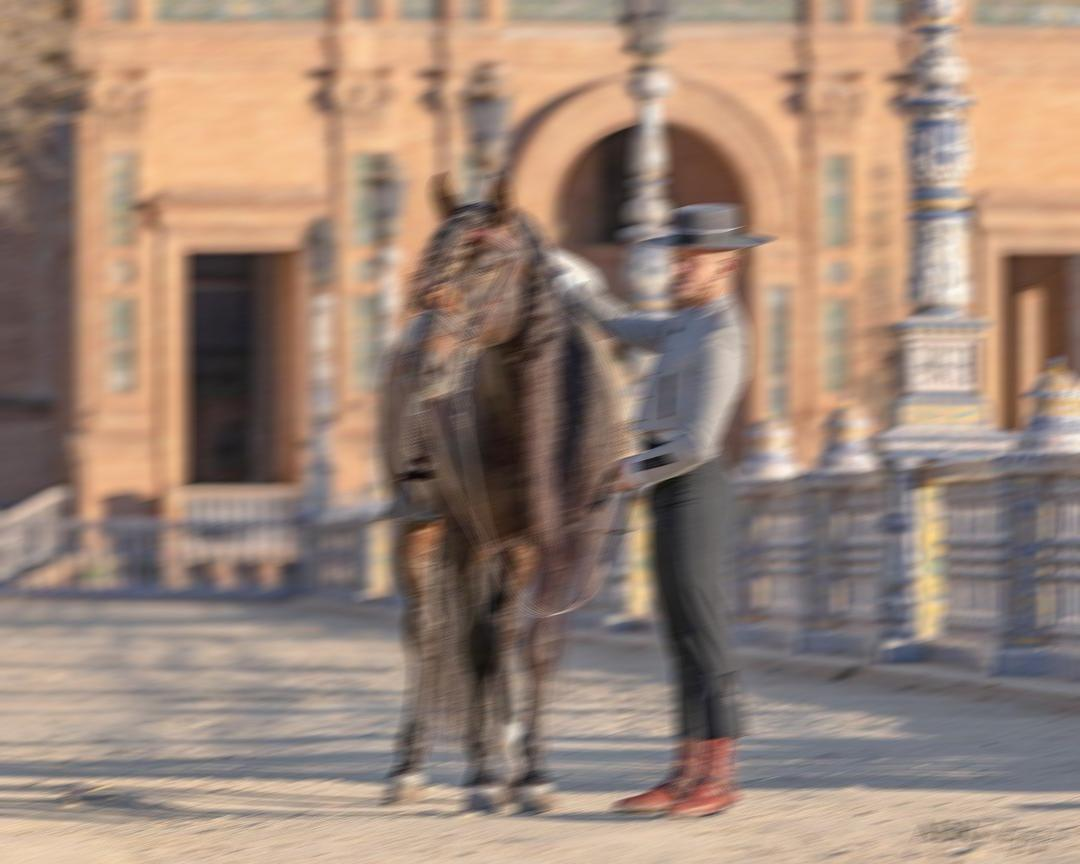horse: (375, 169, 632, 814)
